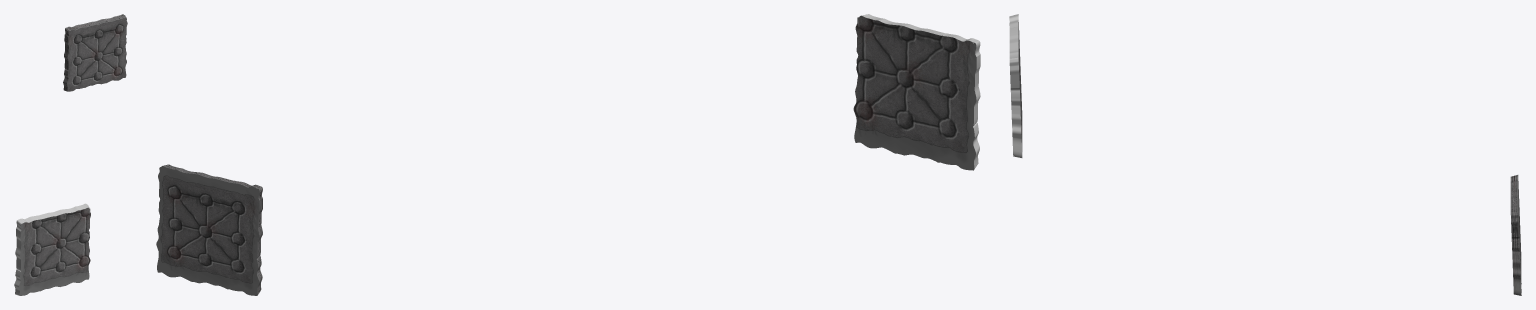
File: connecto_final_final_board.fbx
The picture shows the model from 3 angles, left to right: view 1: azimuth 30°, elevation 25°; view 2: azimuth 150°, elevation 25°; view 3: azimuth 270°, elevation 25°; orthographic projection. The views are drawn at different scales.
Parts seen in each view (by area): view 1: Group_12, Group_001; view 2: Group_12, Group_001; view 3: Group_12, Group_001.
Boxes of the visible parts, <box> form: Group_12: <box>14,203,90,295</box>; Group_001: <box>63,14,127,91</box>; Group_12: <box>853,14,980,170</box>; Group_001: <box>156,164,262,295</box>; Group_12: <box>1009,14,1022,157</box>; Group_001: <box>1510,175,1521,295</box>.
Size of the model in its own units: 7758 by 1907 by 8727.
